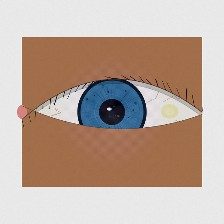pinguecula_lesion: (152, 97, 187, 125)
